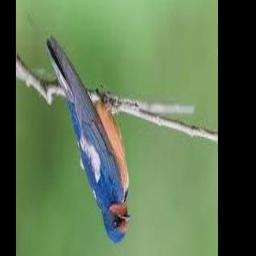Swallow: (46, 37, 131, 242)
